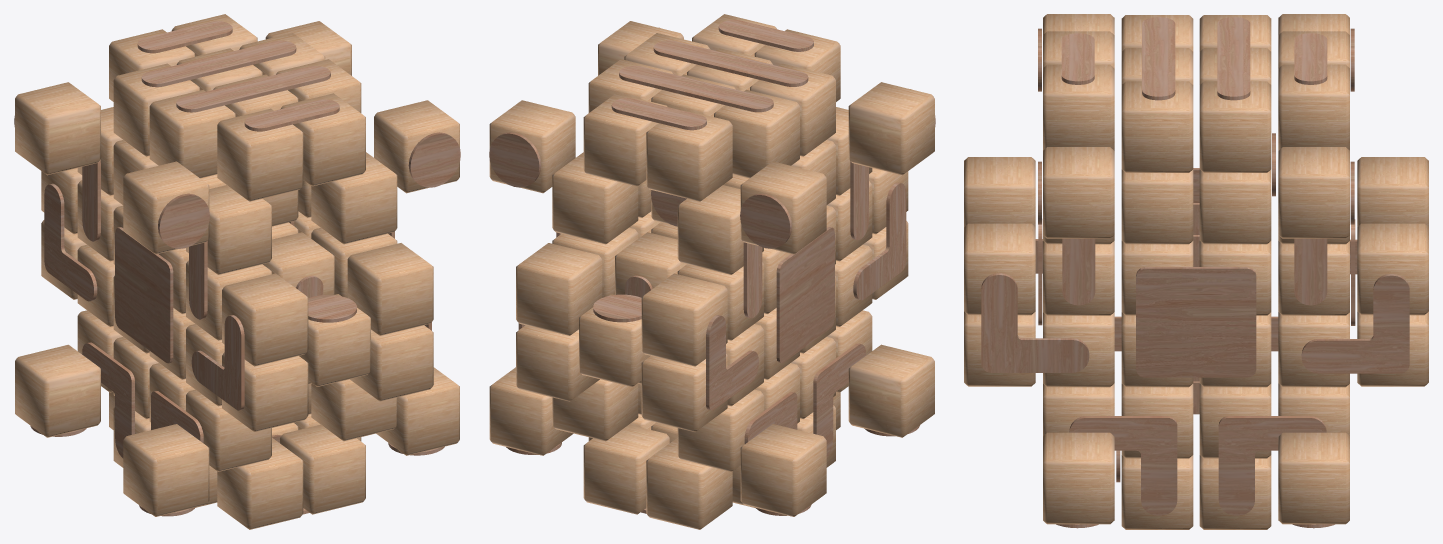
Rendered from level_76.fbx.
3 renders of one model, left to right at view 1: azimuth 30°, elevation 25°; view 2: azimuth 150°, elevation 25°; view 3: azimuth 270°, elevation 25°, orthographic. The views are drawn at different scales.
Parts seen in each view (by area): view 1: Cube.105, Cube.177, Cube.151, Cube.113, Cube.097, Cube.111, obj_obs_square.002, Cube.093, Cube.077, Cube.078, Cube.091, Cube.071 (+46 smaller); view 2: Cube.177, Cube.085, Cube.105, Cube.158, Cube.155, Cube.160, obj_obs_square.002, Cube.152, Cube.144, Cube.143, Cube.153, Cube.154 (+47 smaller); view 3: obj_obs_square.003, Cube.114, Cube.173, Cube.089, Cube.147, Cube.140, Cube.073, obj_obs_L.003, obj_obs_L.004, Cube.098, Cube.154, Cube.158 (+37 smaller).
Boxes of the visible parts, x1=… form: Cube.105: x1=123, y1=424, x2=209, y2=516; Cube.177: x1=15, y1=344, x2=100, y2=437; Cube.151: x1=15, y1=82, x2=100, y2=175; Cube.113: x1=347, y1=243, x2=433, y2=335; Cube.097: x1=217, y1=108, x2=303, y2=201; Cube.111: x1=222, y1=273, x2=308, y2=366; obj_obs_square.002: x1=115, y1=227, x2=173, y2=363; Cube.093: x1=311, y1=152, x2=397, y2=244; Cube.077: x1=217, y1=438, x2=303, y2=529; Cube.078: x1=280, y1=424, x2=365, y2=514; Cube.091: x1=186, y1=185, x2=271, y2=274; Cube.071: x1=149, y1=89, x2=235, y2=178; Cube.177: x1=740, y1=424, x2=826, y2=516; Cube.085: x1=848, y1=82, x2=934, y2=175; Cube.105: x1=848, y1=344, x2=934, y2=437; Cube.158: x1=516, y1=243, x2=602, y2=335; Cube.155: x1=646, y1=108, x2=732, y2=201; Cube.160: x1=641, y1=273, x2=727, y2=366; obj_obs_square.002: x1=776, y1=227, x2=834, y2=363; Cube.152: x1=552, y1=152, x2=638, y2=244; Cube.144: x1=646, y1=438, x2=732, y2=529; Cube.143: x1=583, y1=424, x2=669, y2=514; Cube.153: x1=677, y1=185, x2=763, y2=274; Cube.154: x1=583, y1=93, x2=667, y2=186; obj_obs_square.003: x1=1136, y1=267, x2=1256, y2=377; Cube.114: x1=1043, y1=432, x2=1114, y2=524; Cube.173: x1=1278, y1=432, x2=1349, y2=524; Cube.089: x1=1043, y1=147, x2=1114, y2=238; Cube.147: x1=1278, y1=147, x2=1349, y2=238; Cube.140: x1=1199, y1=81, x2=1271, y2=172; Cube.073: x1=1121, y1=81, x2=1193, y2=172; obj_obs_L.003: x1=1301, y1=274, x2=1409, y2=373; obj_obs_L.004: x1=981, y1=273, x2=1089, y2=372; Cube.098: x1=1043, y1=64, x2=1114, y2=150; Cube.154: x1=1278, y1=64, x2=1349, y2=150; Cube.158: x1=1357, y1=223, x2=1428, y2=315.
Bounding box in the file's own units: 10.8 × 13.26 × 12.98.
